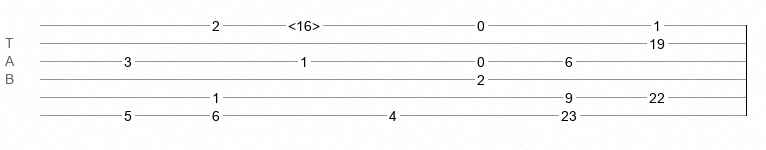0: (477, 54, 485, 64), (477, 18, 485, 28)
1: (212, 90, 220, 100), (300, 54, 308, 64), (653, 18, 661, 28)
19: (649, 36, 665, 46)
2: (212, 18, 220, 28), (477, 72, 485, 82)
22: (649, 90, 665, 100)
23: (561, 108, 577, 118)
3: (124, 54, 132, 64)
4: (389, 108, 397, 118)
5: (124, 108, 132, 118)
6: (212, 108, 220, 118), (565, 54, 573, 64)
9: (565, 90, 573, 100)
harmonic: (288, 18, 320, 28)
